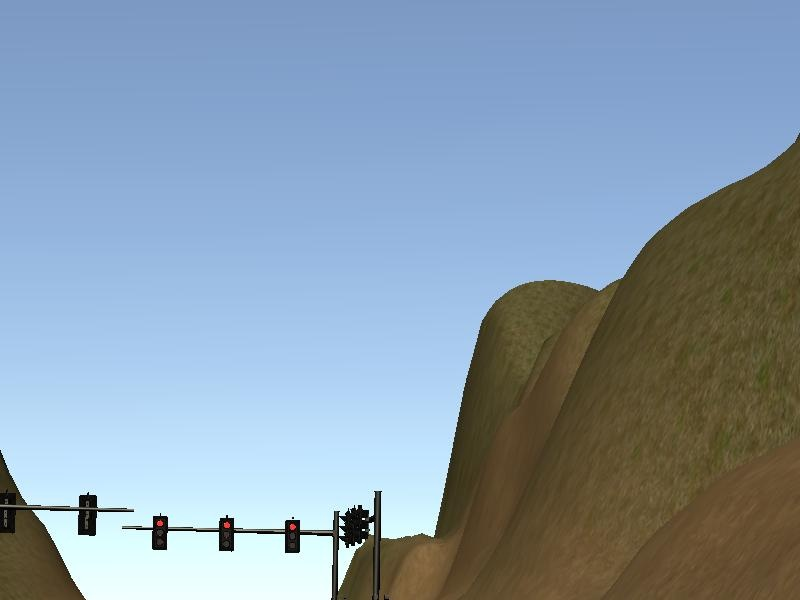red: (148, 511, 171, 556), (215, 511, 237, 555), (283, 518, 303, 558)
